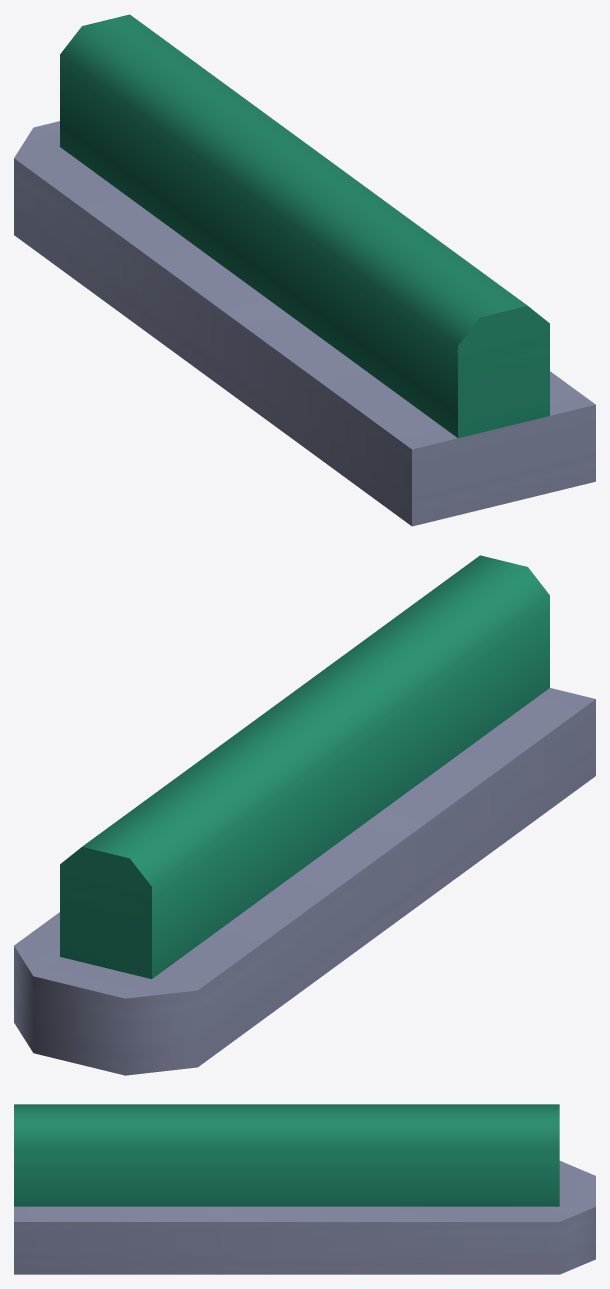
File: hedgeEnd.fbx
The picture shows the model from 3 angles, top to bottom: view 1: azimuth 30°, elevation 25°; view 2: azimuth 150°, elevation 25°; view 3: azimuth 270°, elevation 25°; orthographic projection. The views are drawn at different scales.
Parts seen in each view (by area): view 1: hedgeEnd; view 2: hedgeEnd; view 3: hedgeEnd.
Boxes of the visible parts, x1=… form: hedgeEnd: x1=14, y1=14, x2=595, y2=526; hedgeEnd: x1=14, y1=555, x2=595, y2=1075; hedgeEnd: x1=14, y1=1104, x2=595, y2=1274.
Size of the model in its own units: 0.25 by 1 by 0.25.
